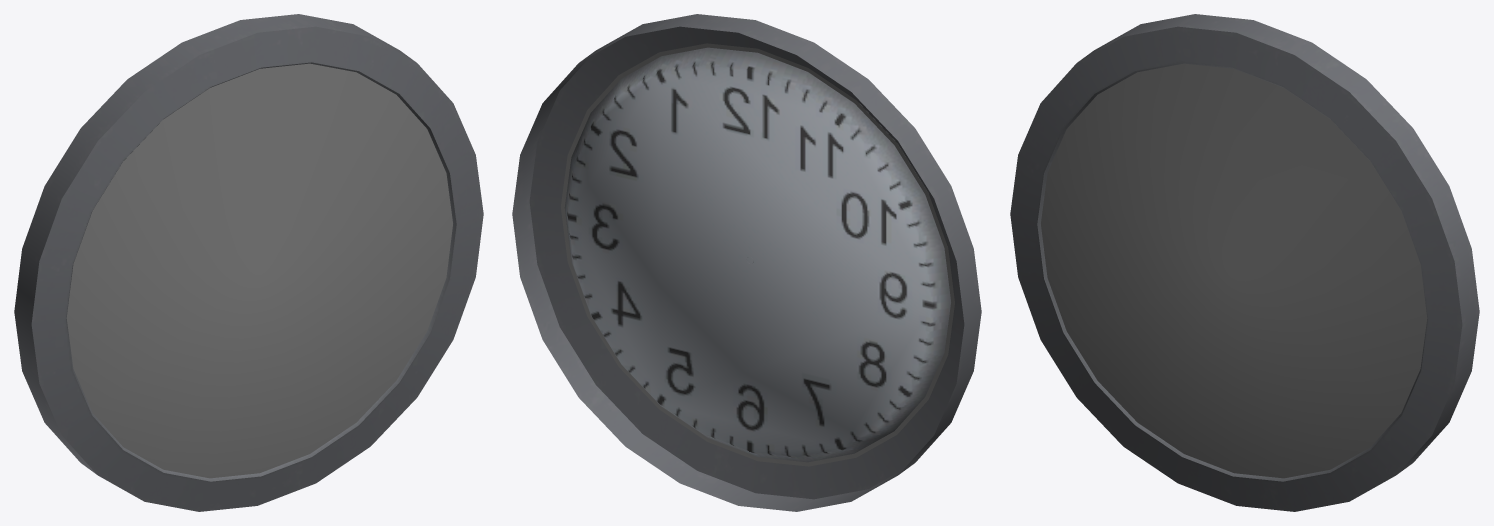
The model's file is propClock.fbx.
The picture shows the model from 3 angles, left to right: view 1: azimuth 30°, elevation 25°; view 2: azimuth 150°, elevation 25°; view 3: azimuth 330°, elevation 25°; orthographic projection.
Parts seen in each view (by area): view 1: propClock; view 2: propClock; view 3: propClock.
Boxes of the visible parts, <box> form: propClock: <box>14,14,483,511</box>; propClock: <box>512,14,981,511</box>; propClock: <box>1010,14,1479,511</box>.
Bounding box in the file's own units: 52.03 × 52.03 × 4.19.
2 materials, 1 textured.
